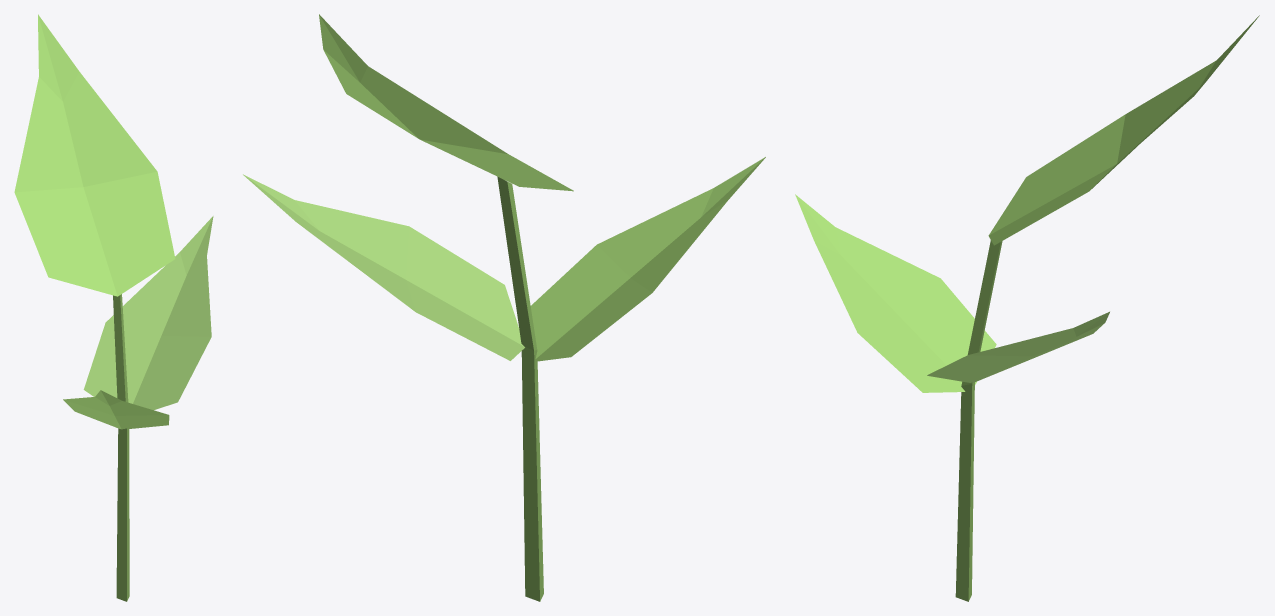
File: Plant_f_TwoS_03.fbx
3 renders of one model, left to right at view 1: azimuth 30°, elevation 25°; view 2: azimuth 150°, elevation 25°; view 3: azimuth 270°, elevation 25°, orthographic. The views are drawn at different scales.
Parts seen in each view (by area): view 1: Plant_f_TwoS_03; view 2: Plant_f_TwoS_03; view 3: Plant_f_TwoS_03.
Boxes of the visible parts, x1=… form: Plant_f_TwoS_03: x1=14, y1=14, x2=213, y2=601; Plant_f_TwoS_03: x1=243, y1=14, x2=765, y2=601; Plant_f_TwoS_03: x1=795, y1=15, x2=1259, y2=601.
Size of the model in its own units: 0.2775 by 0.5392 by 0.3769.
